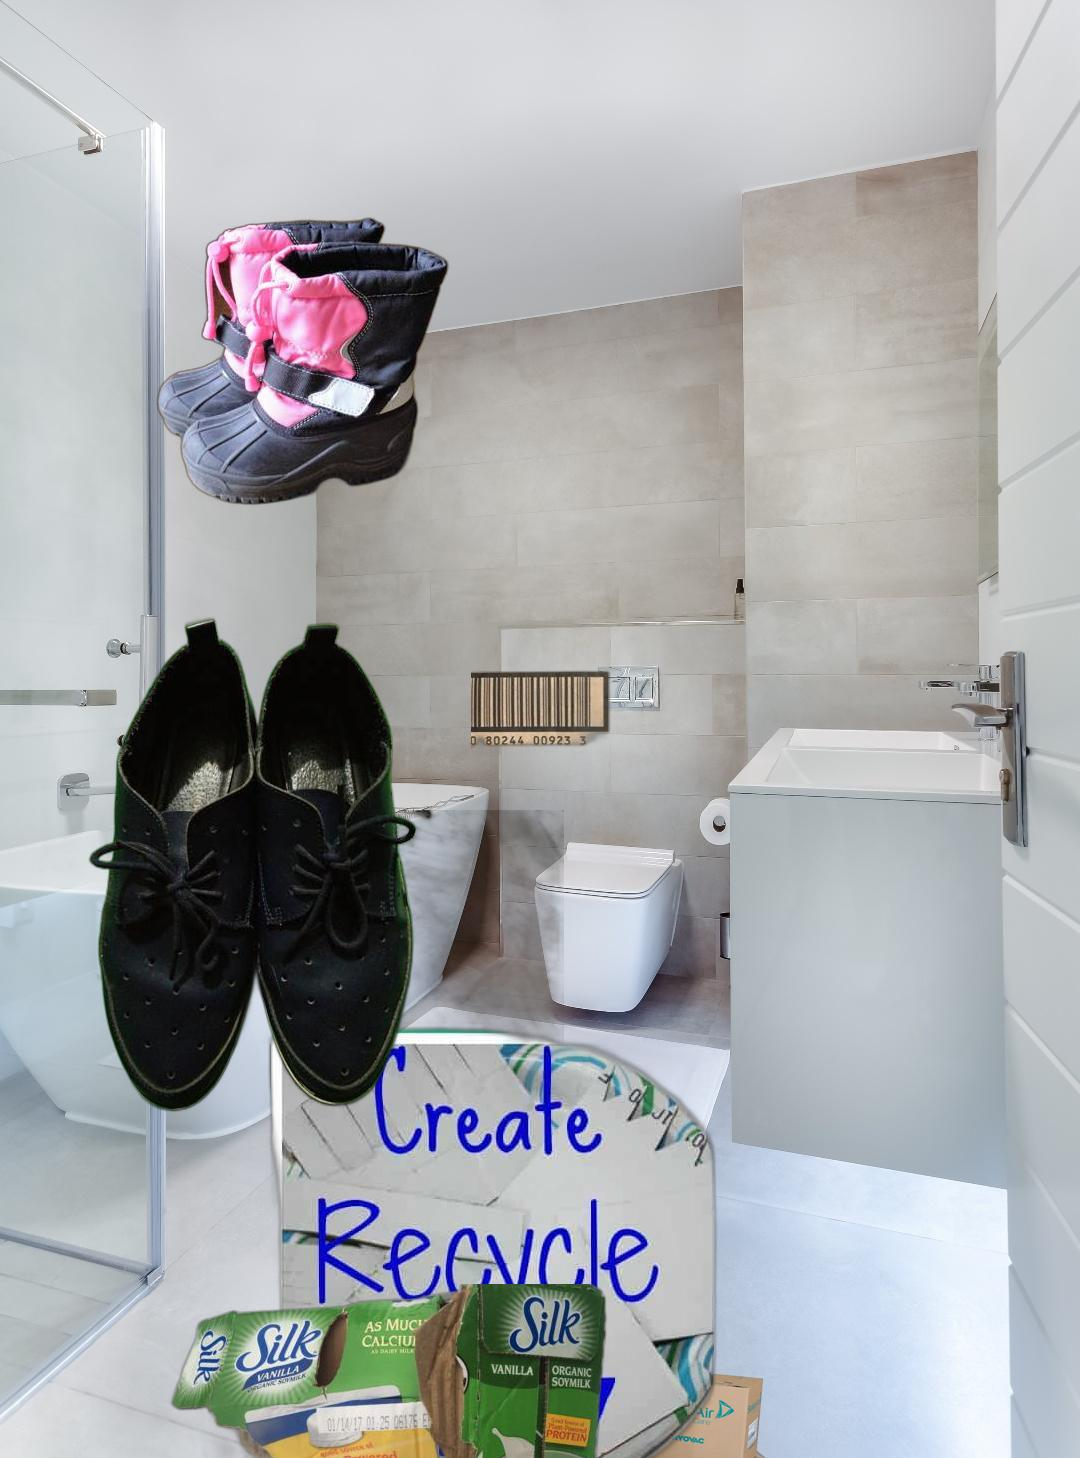shoes: (86, 614, 424, 1116), (152, 214, 453, 508)
trashbox-cardboard: (15, 751, 735, 1458), (52, 810, 564, 1194), (471, 669, 982, 904), (143, 1284, 611, 1458), (444, 1307, 775, 1458)
